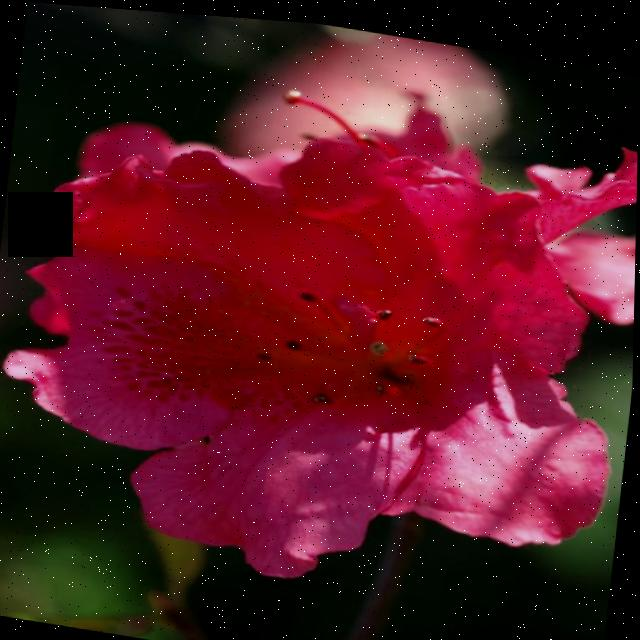azalea: (1, 63, 639, 627)
